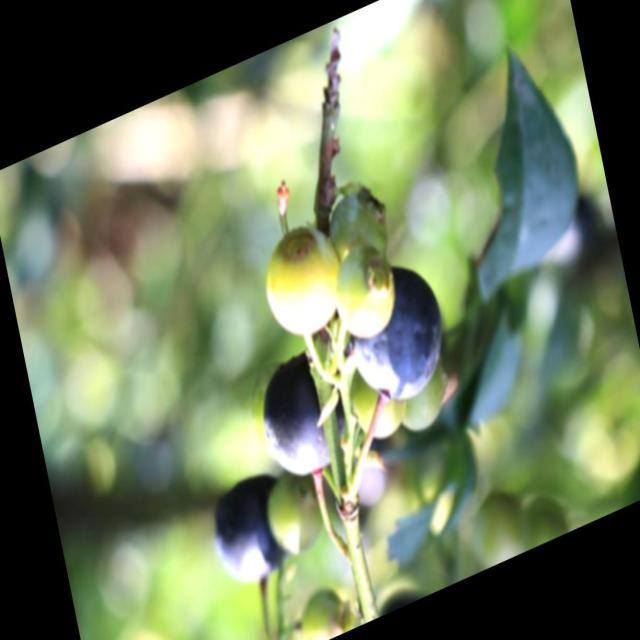blueberry: (337, 246, 453, 415), (253, 334, 354, 489), (207, 463, 296, 592)
blueberry-unripe: (252, 210, 350, 351), (329, 238, 402, 346), (261, 466, 327, 569), (323, 184, 394, 268), (288, 580, 354, 639)
